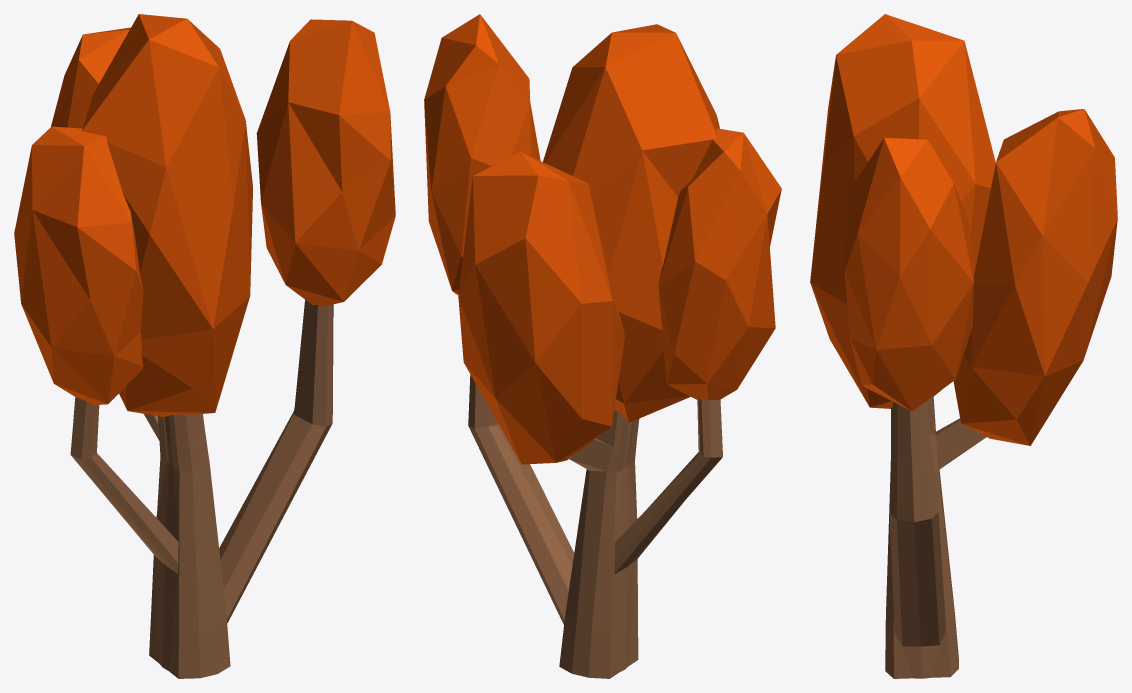
The model's file is tree-autumn-complete-13-005.glb.
The picture shows the model from 3 angles, left to right: view 1: azimuth 30°, elevation 25°; view 2: azimuth 150°, elevation 25°; view 3: azimuth 270°, elevation 25°; orthographic projection. The views are drawn at different scales.
Visible parts, largest first — view 1: TREE 13.003_388, TREE 13.002_389; view 2: TREE 13.003_388, TREE 13.002_389; view 3: TREE 13.003_388, TREE 13.002_389.
Boxes of the visible parts, left/top/right/bottom form: TREE 13.003_388: left=14, top=14, right=395, bottom=416; TREE 13.002_389: left=70, top=300, right=333, bottom=678; TREE 13.003_388: left=424, top=14, right=781, bottom=464; TREE 13.002_389: left=468, top=374, right=722, bottom=678; TREE 13.003_388: left=810, top=14, right=1117, bottom=445; TREE 13.002_389: left=885, top=396, right=986, bottom=678.
Bounding box in the file's own units: 0.9813 × 1.74 × 0.7767.
